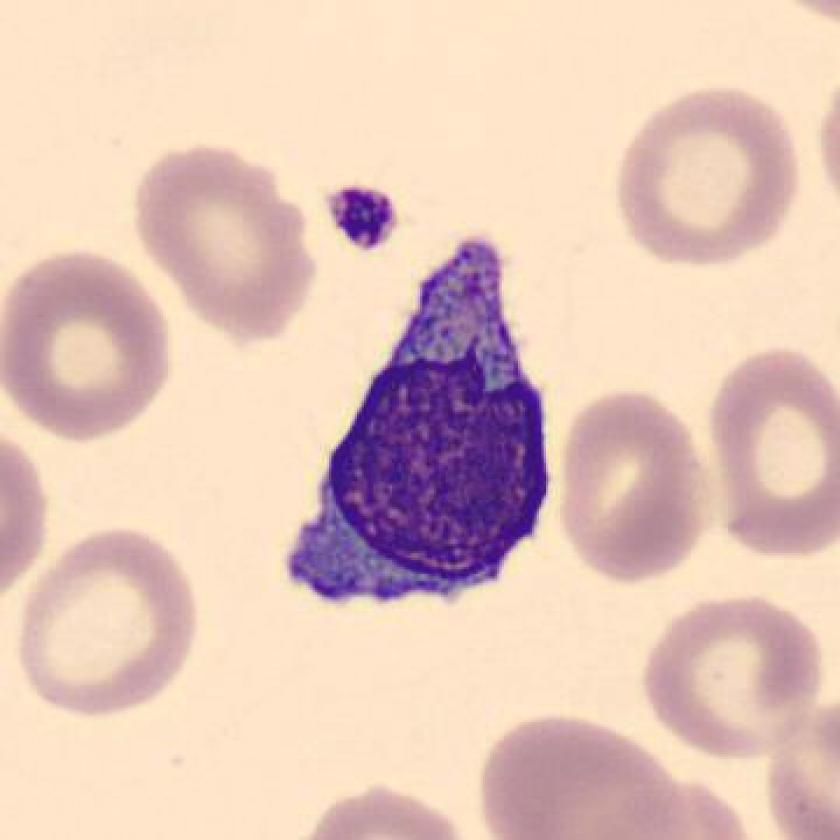lymphocyte: (276, 225, 566, 633)
